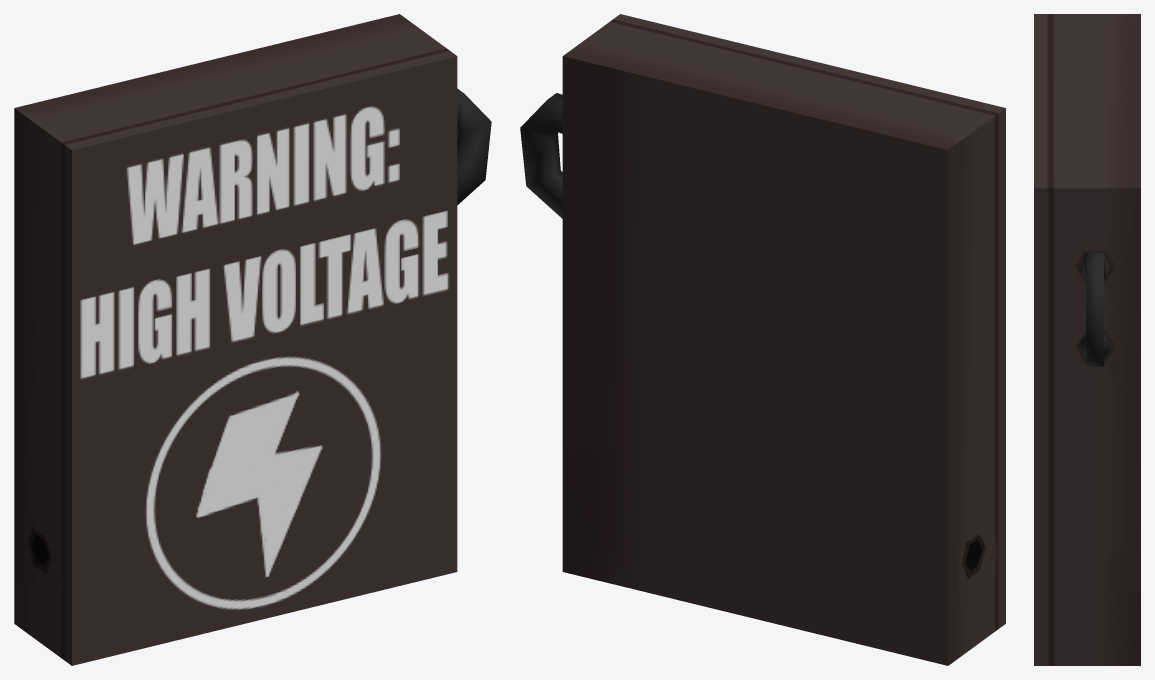
Rendered from CyberTree_Voltage.fbx.
3 renders of one model, left to right at view 1: azimuth 30°, elevation 25°; view 2: azimuth 150°, elevation 25°; view 3: azimuth 270°, elevation 25°, orthographic. The views are drawn at different scales.
Parts seen in each view (by area): view 1: Machine_Voltage; view 2: Machine_Voltage; view 3: Machine_Voltage.
Part boxes in pixels (x1,y1,x2,y2): Machine_Voltage: [14, 14, 491, 665]; Machine_Voltage: [520, 14, 1005, 665]; Machine_Voltage: [1034, 14, 1140, 665].
Size of the model in its own units: 80.88 by 18.03 by 88.99.
2 materials, 1 textured.
